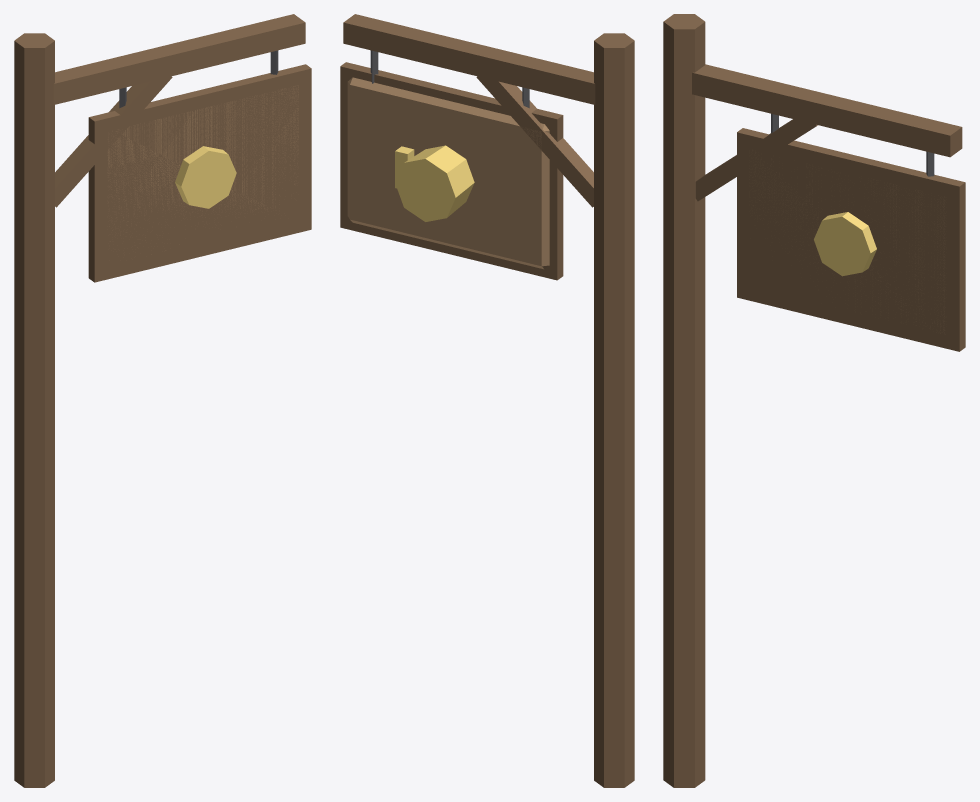
The model's file is Tavern_Sign.glb.
The picture shows the model from 3 angles, left to right: view 1: azimuth 30°, elevation 25°; view 2: azimuth 150°, elevation 25°; view 3: azimuth 330°, elevation 25°; orthographic projection. The views are drawn at different scales.
Visible parts, largest first — view 1: Tavern_Sign; view 2: Tavern_Sign; view 3: Tavern_Sign.
Part boxes in pixels (<box>): Tavern_Sign: <box>14,14,311,787</box>; Tavern_Sign: <box>340,14,634,787</box>; Tavern_Sign: <box>663,14,965,787</box>.
Size of the model in its own units: 1.14 by 2.8 by 0.24.
